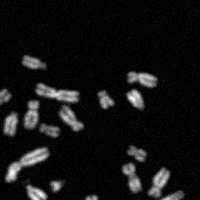chromosome: (6, 146, 51, 181), (35, 84, 79, 103), (146, 168, 169, 200), (60, 104, 84, 131), (122, 162, 142, 193), (125, 70, 158, 87), (132, 190, 185, 200), (21, 56, 49, 74), (24, 99, 40, 129), (3, 110, 19, 137), (26, 183, 48, 200), (127, 90, 144, 110), (39, 122, 59, 138), (128, 146, 147, 162), (98, 89, 113, 109), (49, 179, 68, 194), (0, 87, 9, 111), (86, 195, 101, 200)
